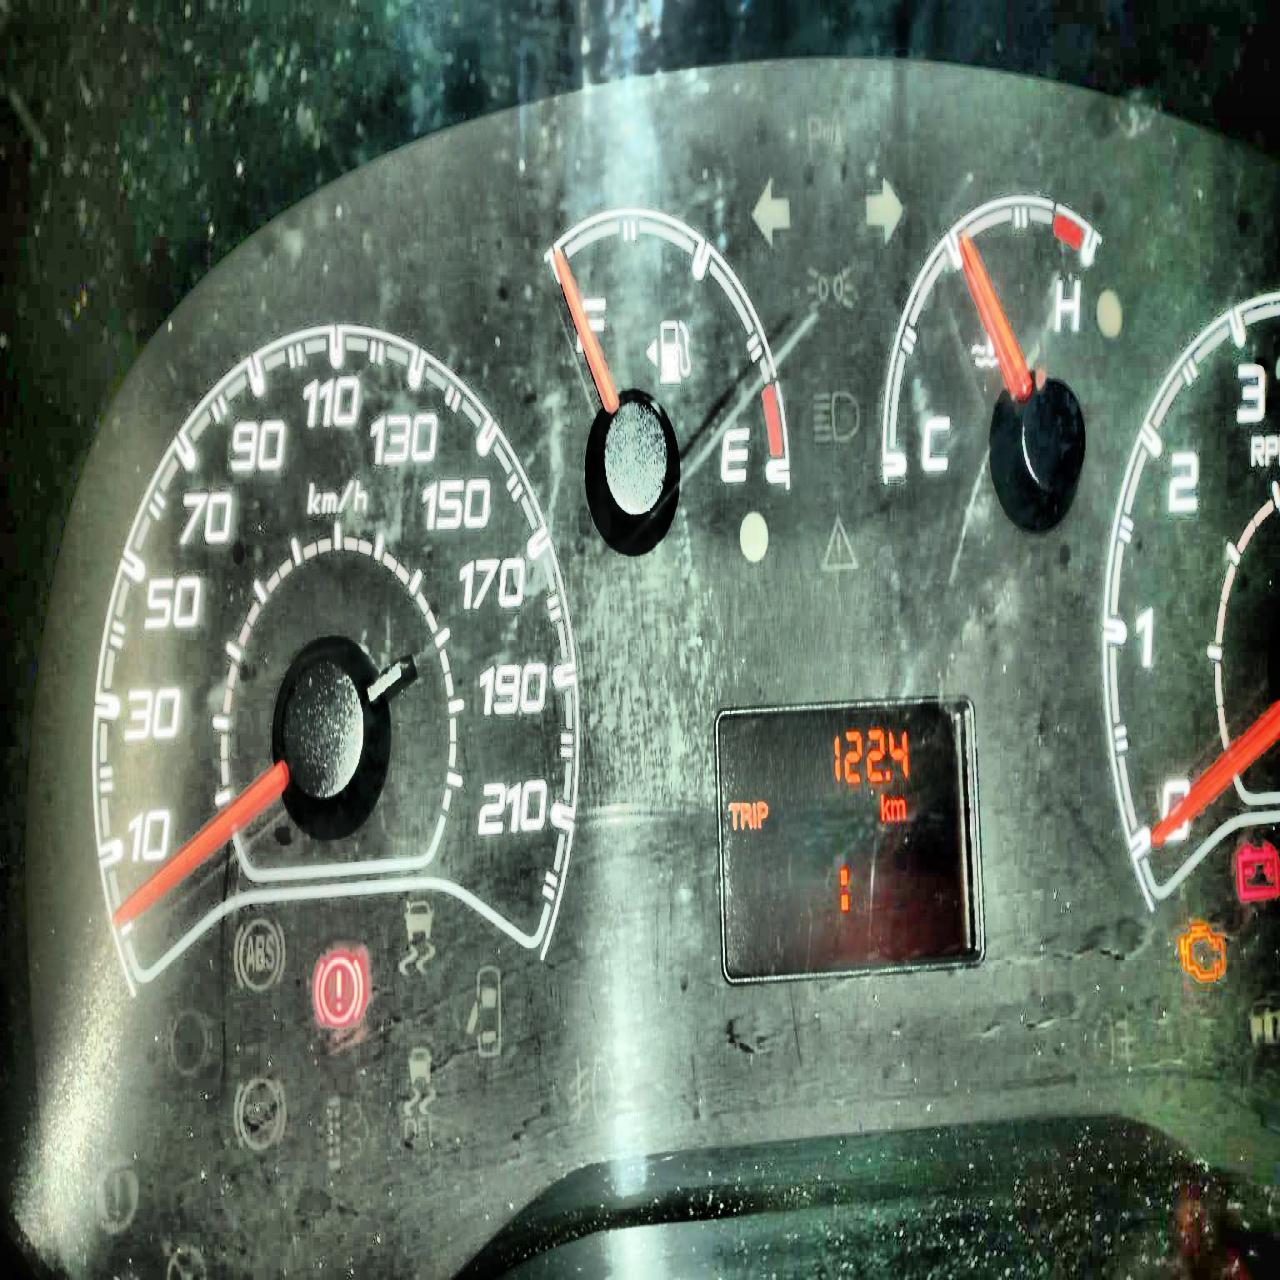-: (884, 769, 890, 779)
1: (832, 734, 840, 781)
2: (865, 727, 884, 781), (843, 729, 862, 782)
4: (888, 729, 907, 776)
X: (839, 865, 849, 911), (727, 802, 741, 830), (890, 797, 906, 819), (756, 799, 768, 828), (740, 802, 751, 829), (879, 792, 890, 819), (751, 801, 757, 830)
odometer: (714, 689, 987, 993)
